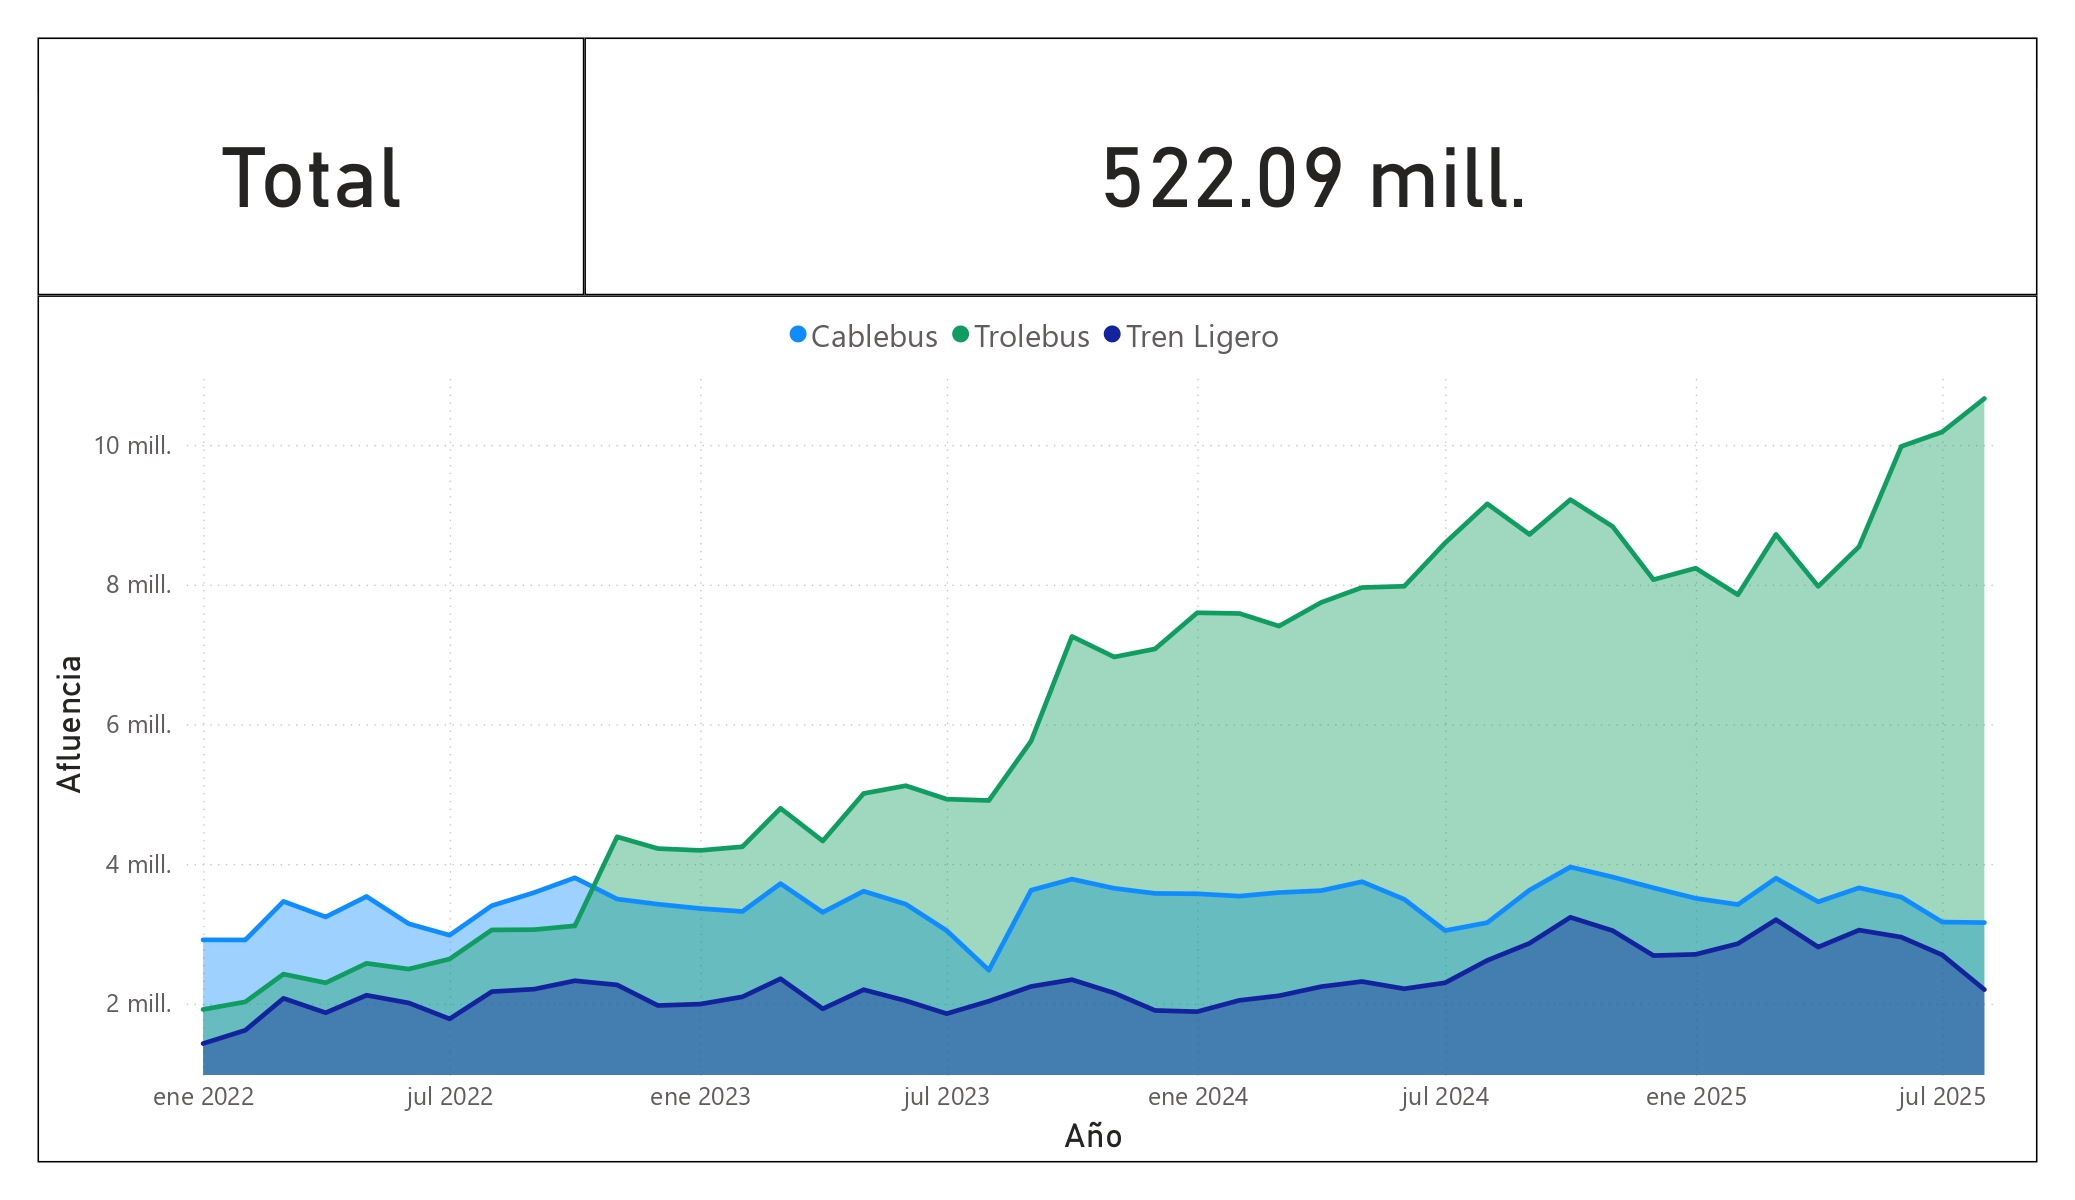

The dashboard page shown, as its layout file describes it:
{"tool":"powerbi","page":{"name":"Página 1","canvas":[1280,720],"ordinal":0},"visuals":[{"type":"areaChart","fields":{"Category":["public vw_afluencia_transportes.fecha.Variación.Jerarquía de fechas.Año","public vw_afluencia_transportes.fecha.Variación.Jerarquía de fechas.Mes"],"Y":["Sum(public vw_afluencia_transportes.afluencia_cablebus)","Sum(public vw_afluencia_transportes.afluencia_trolebus)","Sum(public vw_afluencia_transportes.afluencia_tren_ligero)"]},"box":[0,165,1280,555],"z":0},{"type":"card","fields":{"Values":["public vw_afluencia_transportes.tipo_pago_tarjeta"]},"box":[0,0,350,165],"z":1000},{"type":"card","fields":{"Values":["public vw_afluencia_transportes.total_afluencia"]},"box":[350,0,930,165],"z":2000}]}

Visuals, with their boxes in screenshot pixels (x1, y1, x2, y2):
areaChart - public vw_afluencia_transportes.fecha.Variación.Jerarquía de fechas.Año x public vw_afluencia_transportes.fecha.Variación.Jerarquía de fechas.Mes: Rect(38, 295, 2038, 1162)
card - public vw_afluencia_transportes.tipo_pago_tarjeta: Rect(38, 38, 584, 295)
card - public vw_afluencia_transportes.total_afluencia: Rect(584, 38, 2038, 295)
